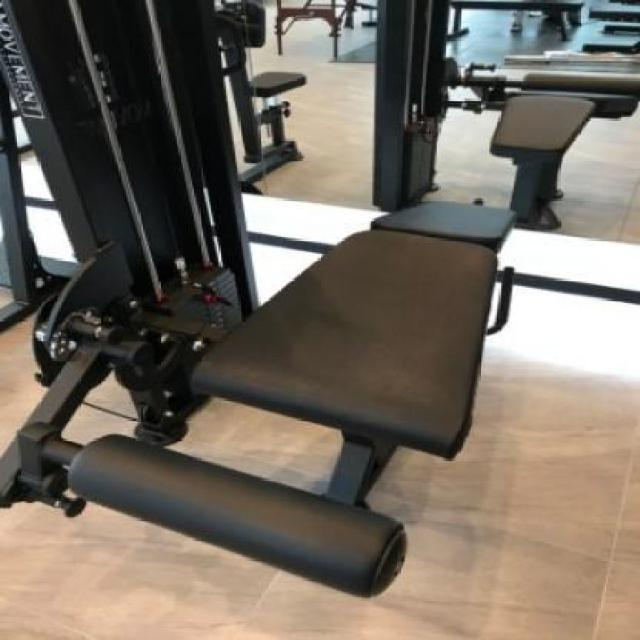reg curl machine: (0, 0, 523, 615)
